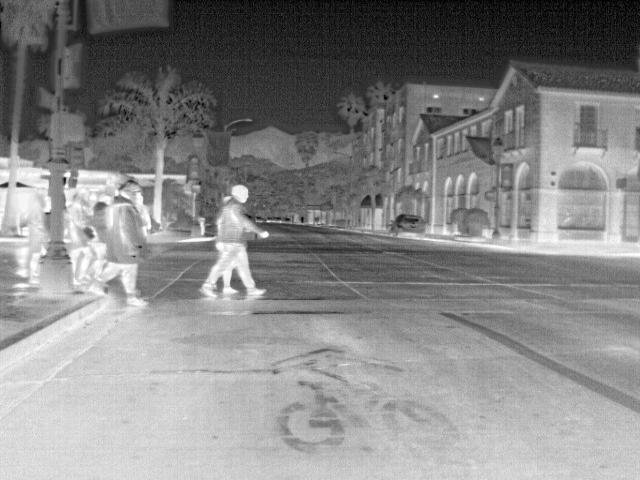car: (390, 212, 428, 237)
person: (197, 181, 271, 299), (103, 180, 152, 306), (64, 187, 96, 285), (87, 186, 118, 274)
